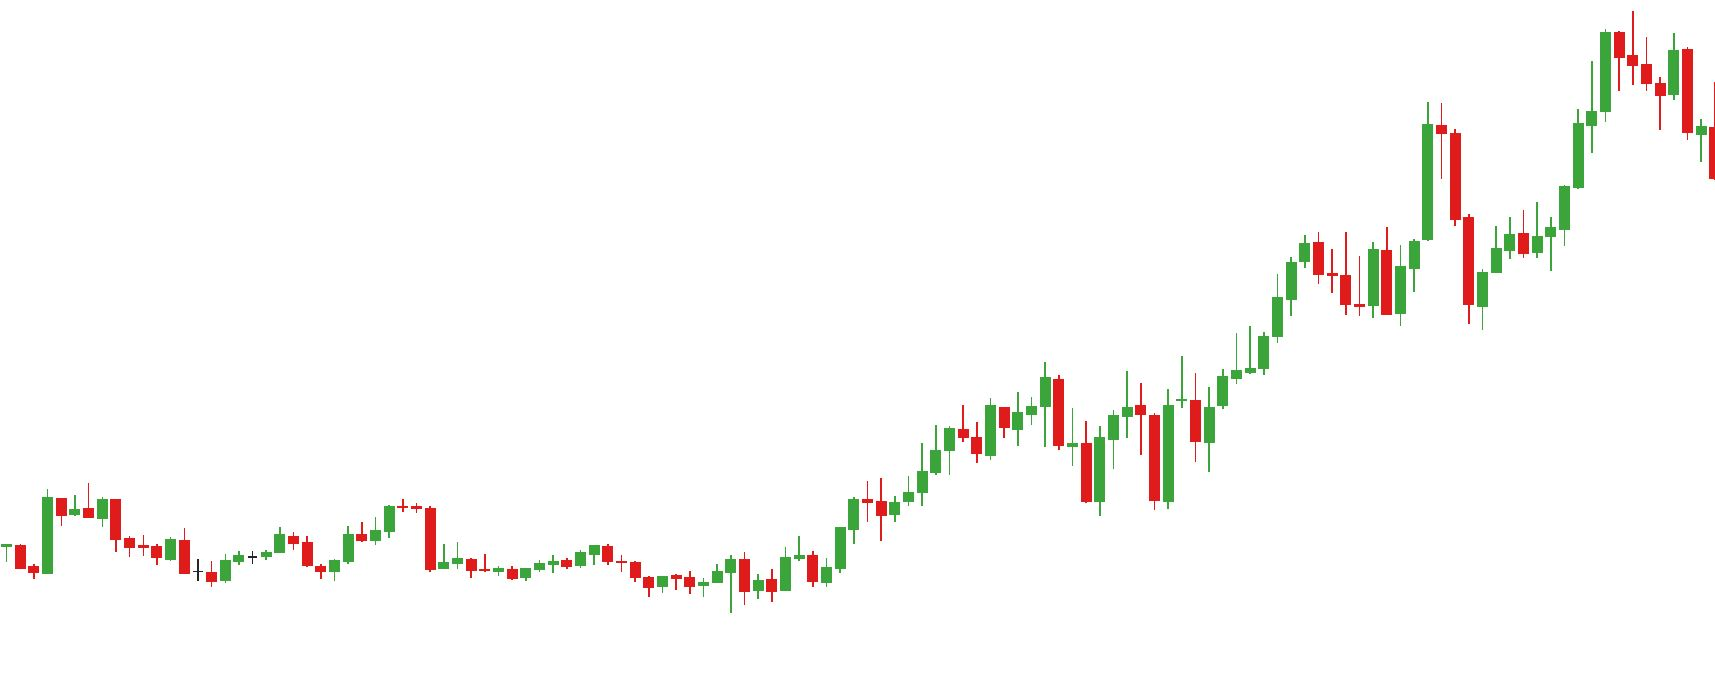buy: (970, 403, 1107, 516), (1392, 209, 1492, 330)
